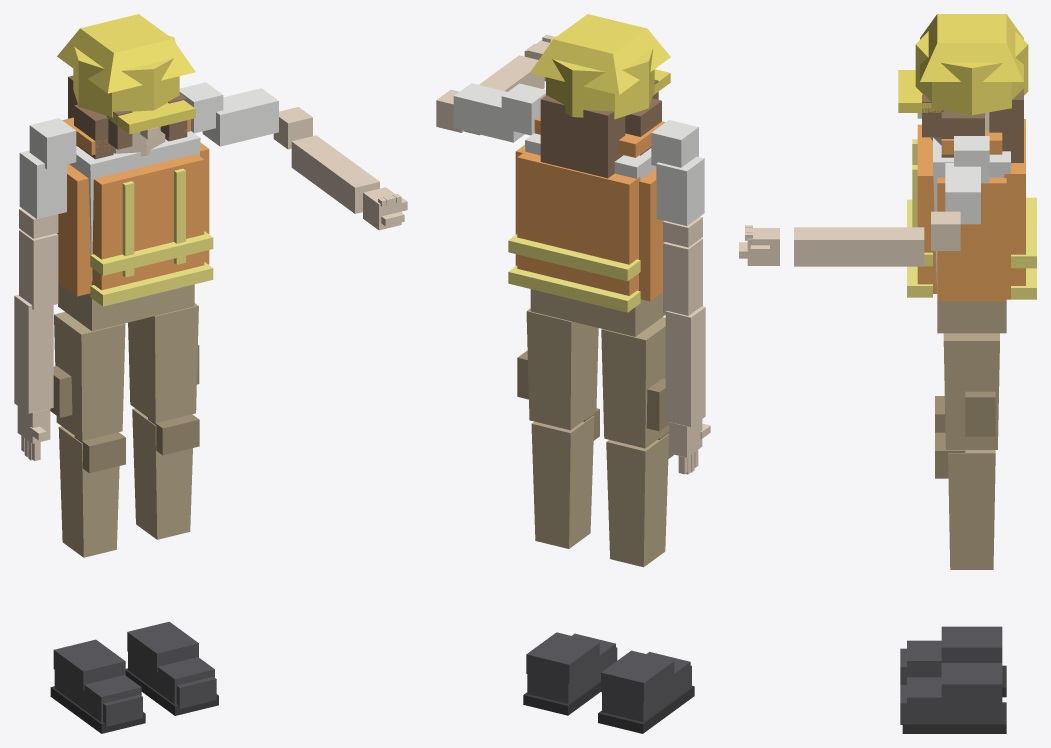
File: avatar-construction-worker.glb
3 renders of one model, left to right at view 1: azimuth 30°, elevation 25°; view 2: azimuth 150°, elevation 25°; view 3: azimuth 270°, elevation 25°, orthographic. The views are drawn at different scales.
Visible parts, largest first — view 1: AVT_CW_Vest_Front, AVT_CW_Pants_Thigh_R, AVT_CW_Pants_Thigh_L, AVT_CW_Helmet_Cap, AVT_CW_Pants_Shin_R, AVT_CW_Pants_Shin_L, AVT_CW_Vest_Fore_L, AVT_CW_Vest, AVT_CW_Helmet_Dome, AVT_CW_Vest_Fore_R, AVT_CW_Vest_Side_L, AVT_CW_Pants_Pelvis (+27 smaller); view 2: AVT_CW_Vest_Back, AVT_CW_Pants_Thigh_R, AVT_CW_Pants_Shin_L, AVT_CW_Pants_Shin_R, AVT_CW_Pants_Thigh_L, AVT_CW_Helmet_Cap, AVT_CW_Helmet_Hair_Back, AVT_CW_Vest, AVT_CW_Vest_Fore_L, AVT_CW_Helmet_Dome, AVT_CW_Pants_Pelvis, AVT_CW_Vest_Sleeve_L (+20 smaller); view 3: AVT_CW_Vest_Side_R, AVT_CW_Helmet_Cap, AVT_CW_Pants_Shin_R, AVT_CW_Vest_Fore_R, AVT_CW_Pants_Thigh_R, AVT_CW_Helmet_Dome, AVT_CW_Boots_Foot_R, AVT_CW_Boots_Cuff_R, AVT_CW_Vest, AVT_CW_Vest_Back, AVT_CW_Pants_Pelvis, AVT_CW_Boots_Cuff_L (+15 smaller).
Boxes of the visible parts, <box> form: AVT_CW_Vest_Front: <box>92,154,204,290</box>; AVT_CW_Pants_Thigh_R: <box>128,303,198,422</box>; AVT_CW_Pants_Thigh_L: <box>54,312,125,440</box>; AVT_CW_Helmet_Cap: <box>57,14,195,93</box>; AVT_CW_Pants_Shin_R: <box>132,408,192,539</box>; AVT_CW_Pants_Shin_L: <box>58,426,119,557</box>; AVT_CW_Vest_Fore_L: <box>14,294,53,413</box>; AVT_CW_Vest: <box>90,231,213,306</box>; AVT_CW_Helmet_Dome: <box>73,35,179,117</box>; AVT_CW_Vest_Fore_R: <box>291,135,379,213</box>; AVT_CW_Vest_Side_L: <box>57,164,91,296</box>; AVT_CW_Pants_Pelvis: <box>58,283,194,331</box>; AVT_CW_Vest_Back: <box>517,151,640,295</box>; AVT_CW_Pants_Thigh_R: <box>526,308,598,430</box>; AVT_CW_Pants_Shin_L: <box>606,434,669,567</box>; AVT_CW_Pants_Shin_R: <box>531,415,594,548</box>; AVT_CW_Pants_Thigh_L: <box>601,317,669,448</box>; AVT_CW_Helmet_Cap: <box>530,14,670,94</box>; AVT_CW_Helmet_Hair_Back: <box>540,95,625,178</box>; AVT_CW_Vest: <box>508,234,640,312</box>; AVT_CW_Vest_Fore_L: <box>665,306,705,426</box>; AVT_CW_Helmet_Dome: <box>546,36,654,119</box>; AVT_CW_Pants_Pelvis: <box>530,289,665,336</box>; AVT_CW_Vest_Sleeve_L: <box>656,156,704,225</box>; AVT_CW_Vest_Side_R: <box>937,177,1006,301</box>; AVT_CW_Helmet_Cap: <box>920,14,1023,81</box>; AVT_CW_Pants_Shin_R: <box>948,450,995,569</box>; AVT_CW_Vest_Fore_R: <box>794,227,924,266</box>; AVT_CW_Pants_Thigh_R: <box>943,333,999,449</box>; AVT_CW_Helmet_Dome: <box>915,31,1028,115</box>; AVT_CW_Boots_Foot_R: <box>907,677,1002,723</box>; AVT_CW_Boots_Cuff_R: <box>941,663,1002,703</box>; AVT_CW_Vest: <box>907,197,1036,299</box>; AVT_CW_Vest_Back: <box>1004,119,1025,299</box>; AVT_CW_Pants_Pelvis: <box>937,301,1006,333</box>; AVT_CW_Boots_Cuff_L: <box>941,626,1002,662</box>.
Size of the model in its own units: 0.745 by 1.72 by 0.687.
